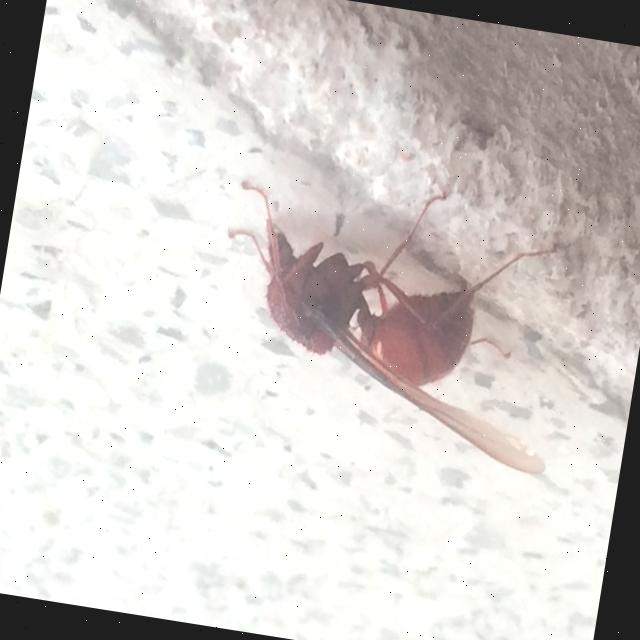Alive-Male-Alate: (198, 162, 586, 476)
